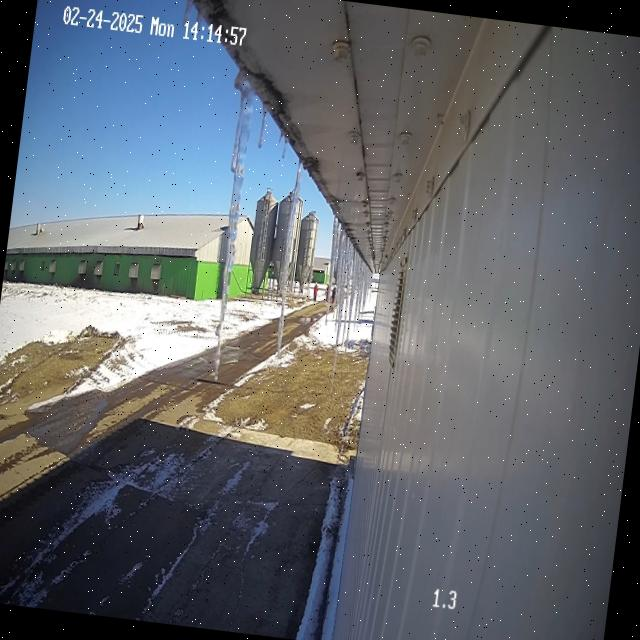Red uniform: (312, 282, 318, 301), (325, 283, 330, 303), (331, 286, 335, 303)
